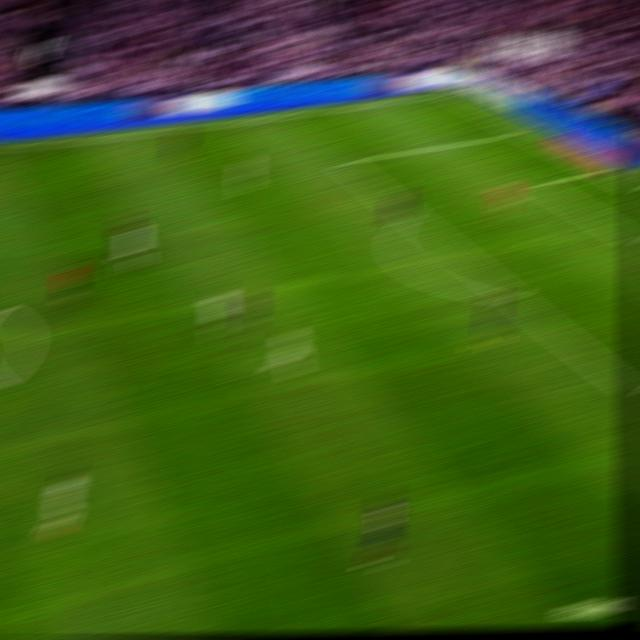bigarea_top_inner: (334, 155, 353, 169)
bigarea_top_outter: (514, 125, 533, 136)
bottom_arc_area_intersection: (501, 288, 524, 305)
corner: (440, 88, 460, 97)
smallarea_top_inner: (528, 178, 547, 189)
top_arc_area_intersection: (399, 208, 419, 221)
